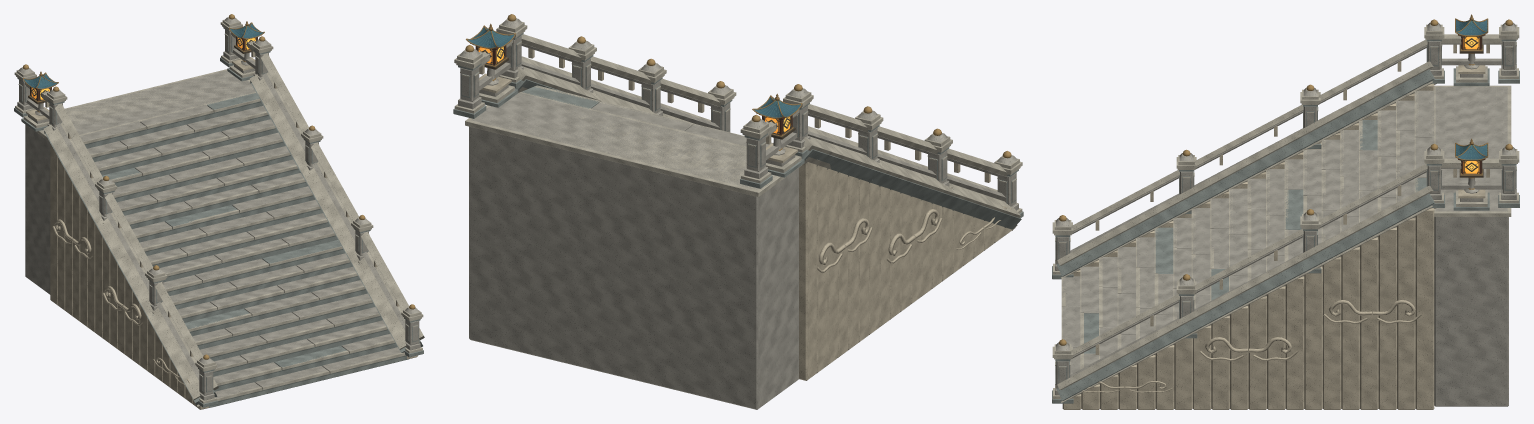
3 views of the same model, side by side, from view 1: azimuth 30°, elevation 25°; view 2: azimuth 150°, elevation 25°; view 3: azimuth 270°, elevation 25° (orthographic). The views are drawn at different scales.
Visible parts, largest first — view 1: C08_stone, C08_light, C08_cool, C08_relief, C08_joint, C08_blue, C08_gold; view 2: C08_stone, C08_relief, C08_light, C08_cool, C08_blue, C08_gold, C08_motif, C08_bronze; view 3: C08_stone, C08_relief, C08_light, C08_cool, C08_blue, C08_gold, C08_bronze, C08_motif.
Boxes of the visible parts, x1=… form: C08_stone: x1=17, y1=17, x2=420, y2=401; C08_light: x1=14, y1=19, x2=424, y2=408; C08_cool: x1=14, y1=27, x2=423, y2=407; C08_relief: x1=26, y1=50, x2=417, y2=409; C08_joint: x1=84, y1=101, x2=406, y2=401; C08_blue: x1=24, y1=23, x2=263, y2=88; C08_gold: x1=23, y1=21, x2=264, y2=112; C08_stone: x1=458, y1=18, x2=1018, y2=409; C08_relief: x1=479, y1=48, x2=1013, y2=380; C08_light: x1=454, y1=22, x2=1022, y2=230; C08_cool: x1=453, y1=33, x2=1023, y2=229; C08_blue: x1=468, y1=27, x2=800, y2=117; C08_gold: x1=466, y1=23, x2=802, y2=150; C08_motif: x1=465, y1=14, x2=1011, y2=158; C08_bronze: x1=477, y1=46, x2=795, y2=139; C08_stone: x1=1055, y1=22, x2=1516, y2=406; C08_relief: x1=1062, y1=44, x2=1489, y2=409; C08_light: x1=1052, y1=24, x2=1519, y2=402; C08_cool: x1=1052, y1=39, x2=1519, y2=403; C08_blue: x1=1456, y1=20, x2=1487, y2=159; C08_gold: x1=1455, y1=14, x2=1488, y2=189; C08_bronze: x1=1459, y1=35, x2=1483, y2=177; C08_motif: x1=1059, y1=19, x2=1512, y2=345.
Bounding box in the file's own units: 5.51 × 4.95 × 7.81.
12 materials, 6 textured.
